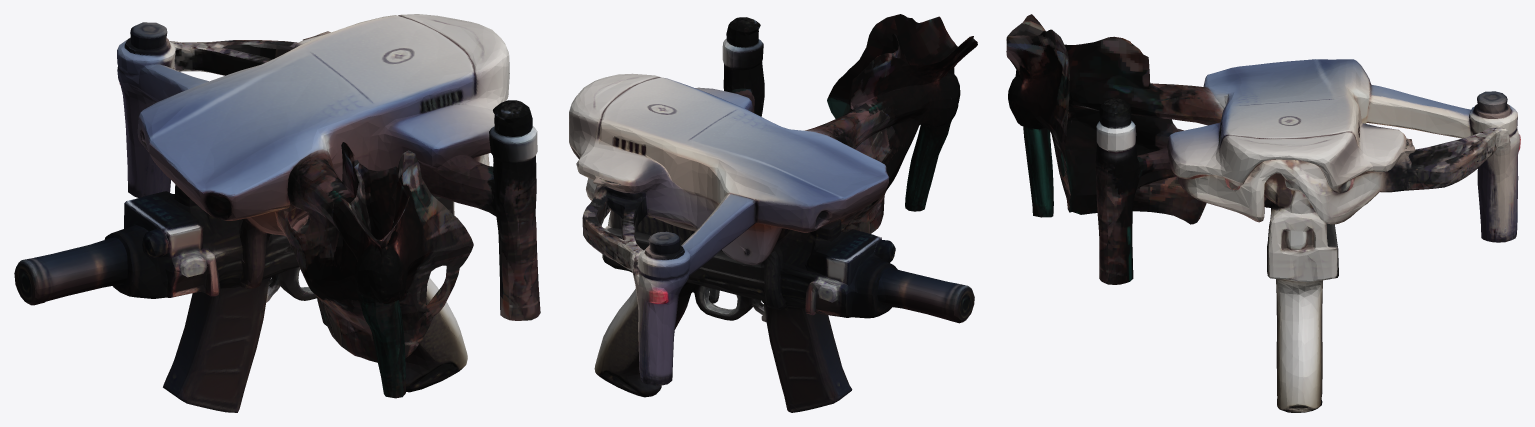
File: drone.glb
The picture shows the model from 3 angles, left to right: view 1: azimuth 30°, elevation 25°; view 2: azimuth 150°, elevation 25°; view 3: azimuth 270°, elevation 25°; orthographic projection. The views are drawn at different scales.
Parts seen in each view (by area): view 1: world; view 2: world; view 3: world.
Part boxes in pixels (<box>): world: <box>14,14,540,412</box>; world: <box>569,14,977,412</box>; world: <box>1006,14,1520,412</box>.
Size of the model in its own units: 0.8541 by 0.6745 by 1.
Materials: 1 (1 with a texture image).
